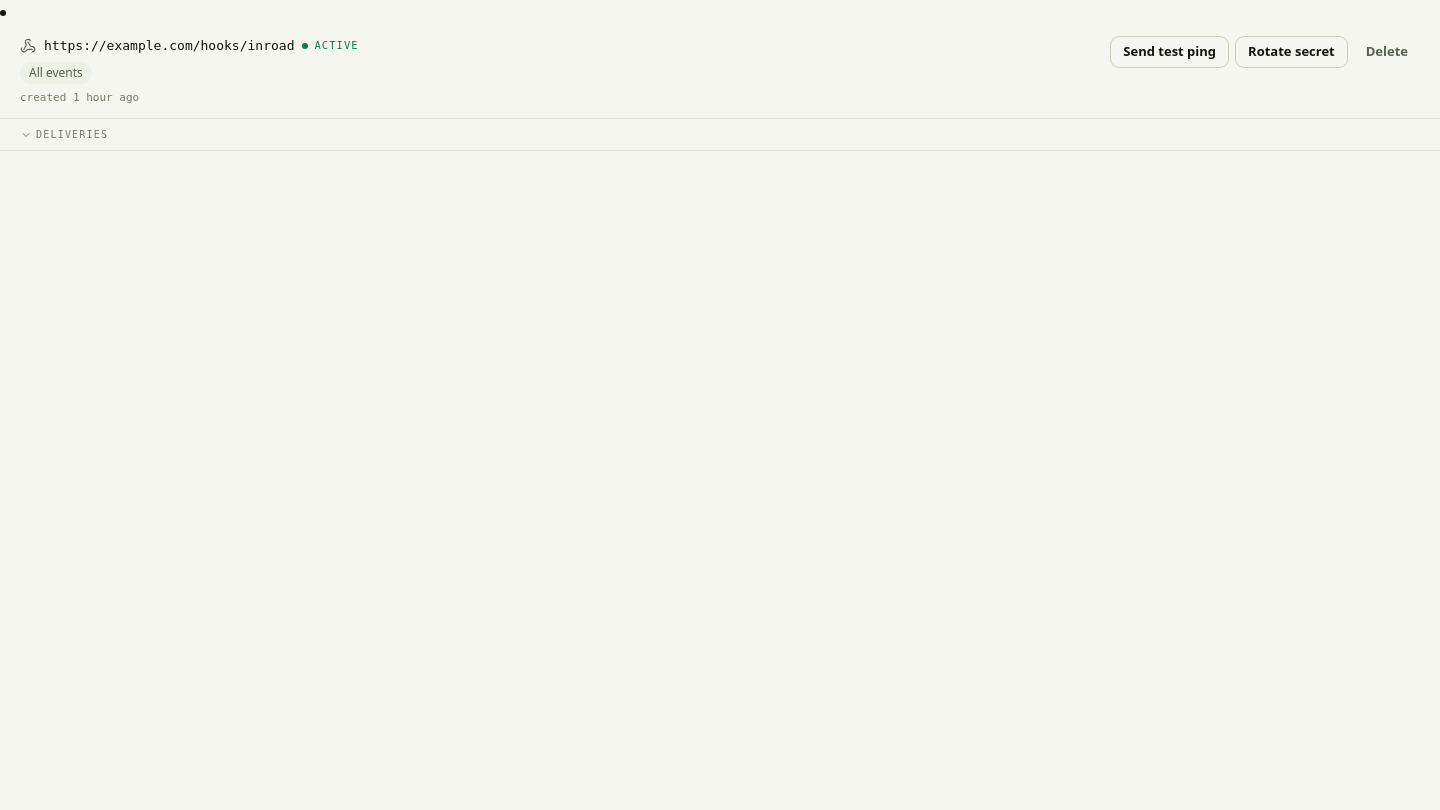
Scenario: delete asks for confirmation before firing the mutation
Click the button "Delete" at (1387, 52), box [1354,36,1420,68]
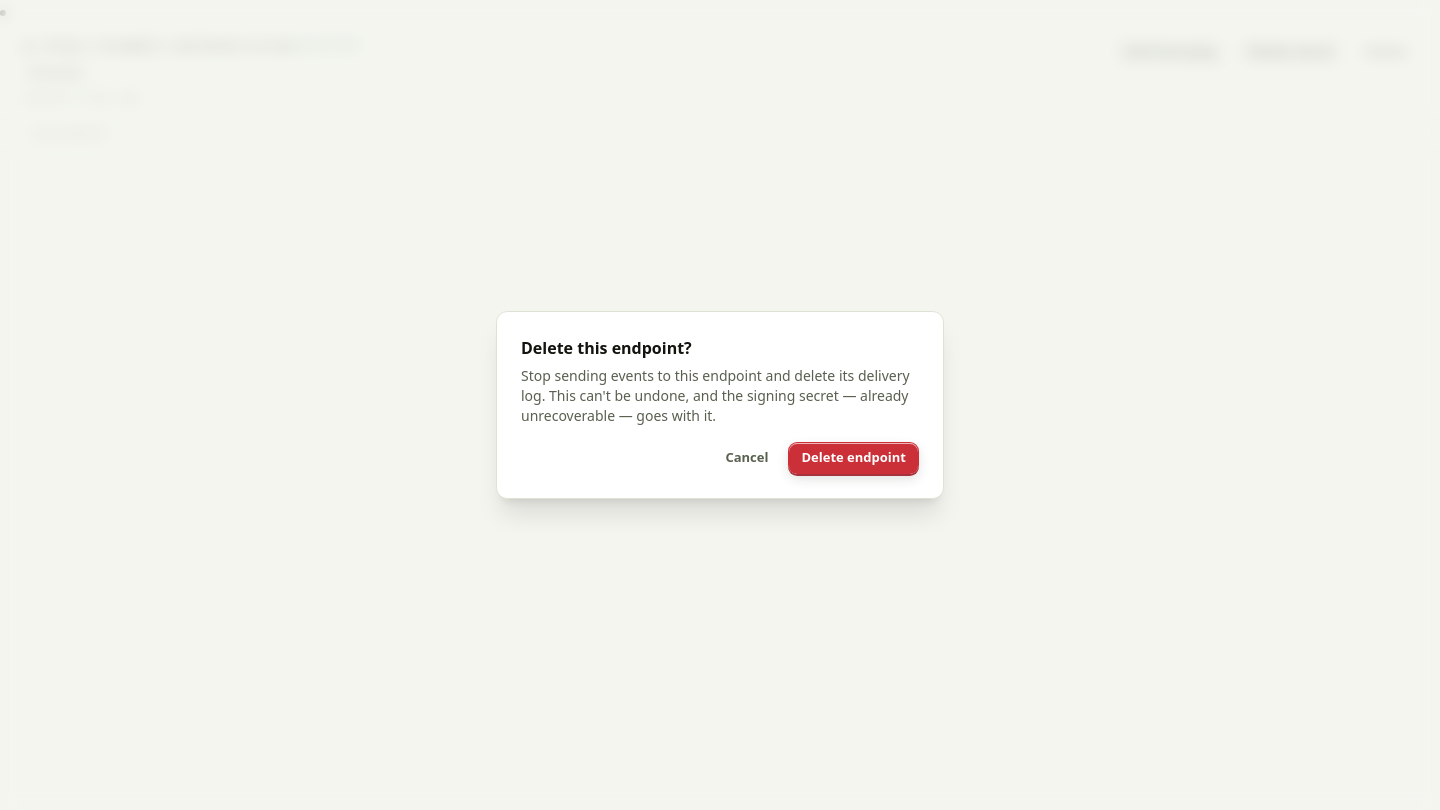
Expected: the text "can't be undone" is shown, [521,366,910,425]
